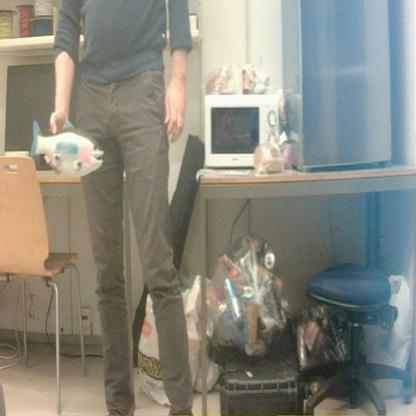rubberfish: (27, 110, 107, 186)
